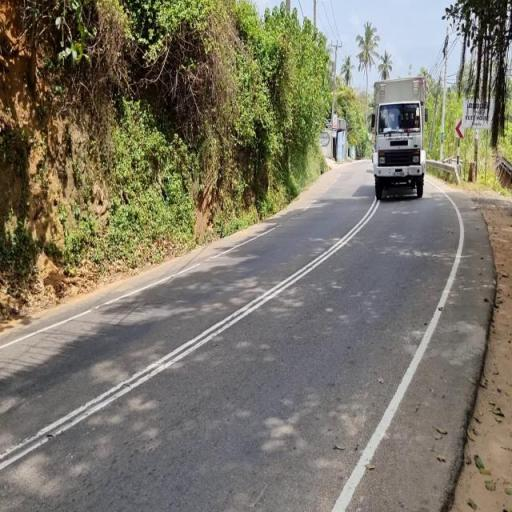double_white_line: (0, 182, 378, 471)
